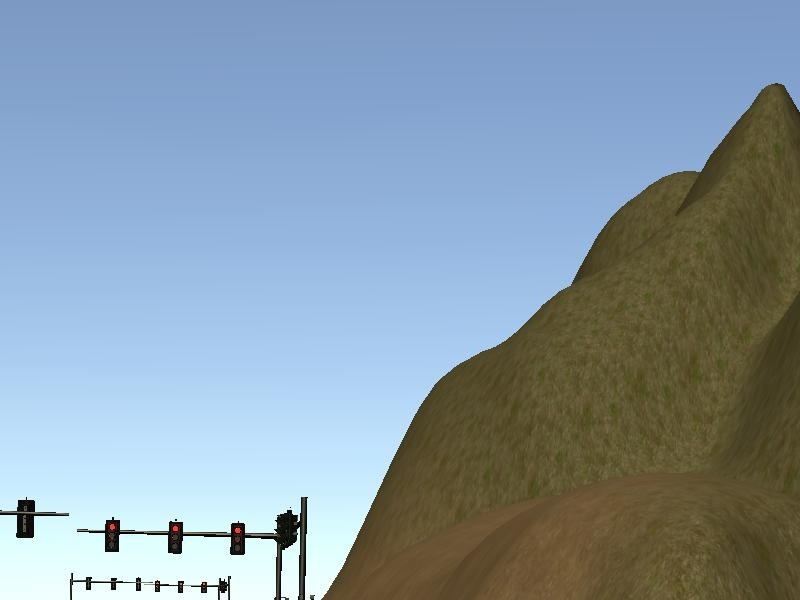red: (103, 518, 122, 554), (166, 521, 184, 555), (229, 521, 247, 555)
